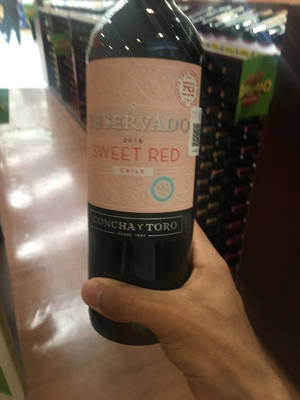reservado sweet red: (79, 1, 218, 328)
